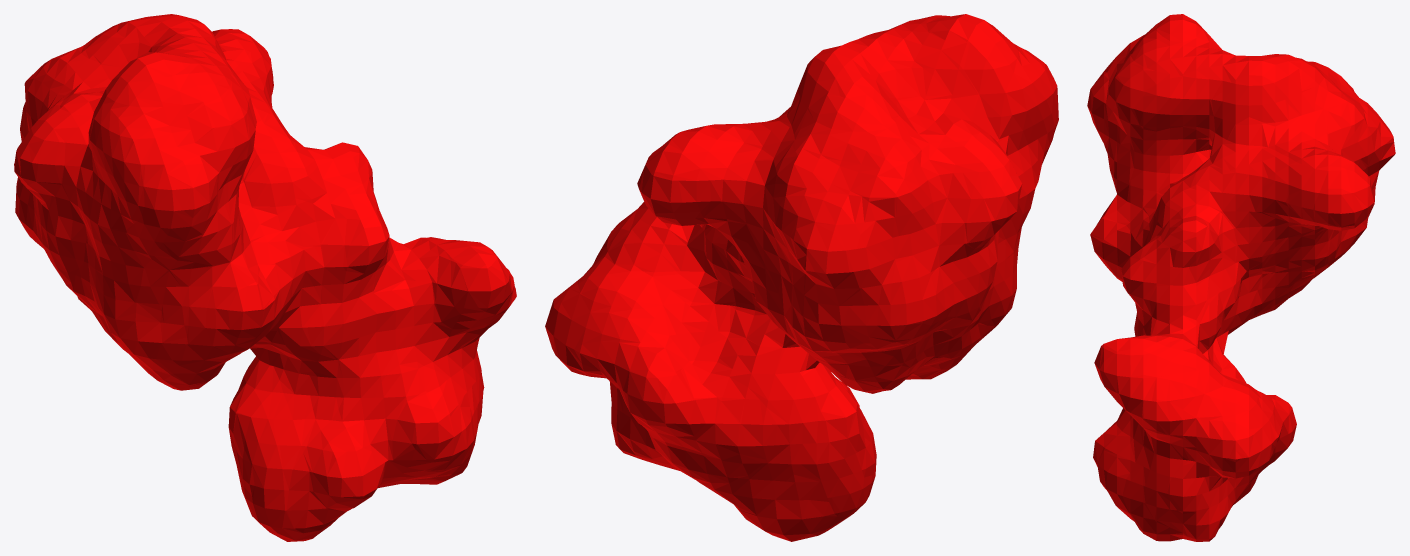
Rendered from lysU_coarse.dae.
3 renders of one model, left to right at view 1: azimuth 30°, elevation 25°; view 2: azimuth 150°, elevation 25°; view 3: azimuth 270°, elevation 25°, orthographic. The views are drawn at different scales.
Visible parts, largest first — view 1: lysU; view 2: lysU; view 3: lysU.
Boxes of the visible parts, box(x1,y1,x2,y2) form: lysU: box(14, 14, 516, 541); lysU: box(545, 14, 1058, 541); lysU: box(1087, 14, 1395, 541).
Bounding box in the file's own units: 80.56 × 88.66 × 56.41.
